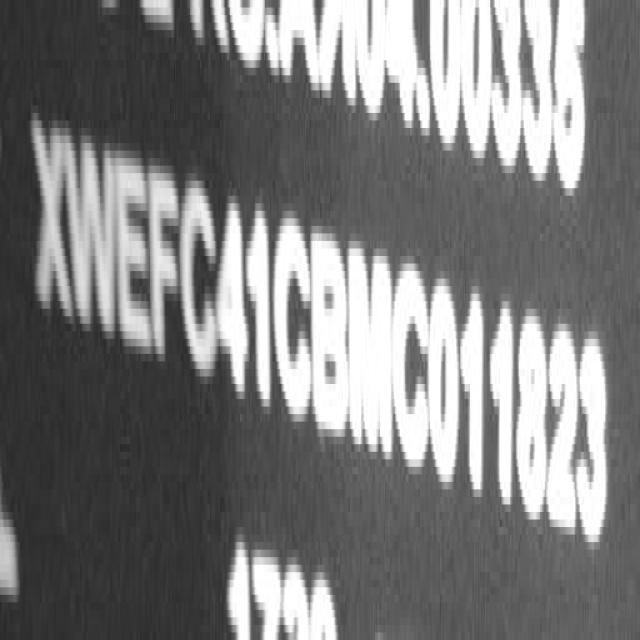0: (428, 276, 459, 491)
1: (458, 262, 486, 502), (247, 198, 274, 418), (489, 290, 513, 519)
2: (546, 321, 579, 538)
3: (574, 329, 607, 544)
4: (215, 178, 250, 402)
8: (518, 304, 548, 524)
B: (310, 232, 350, 444)
C: (179, 173, 221, 387), (271, 212, 312, 421), (393, 257, 429, 471)
E: (115, 134, 151, 371)
F: (148, 150, 180, 384)
M: (348, 226, 394, 460)
W: (64, 111, 119, 352)
X: (32, 100, 72, 346)
